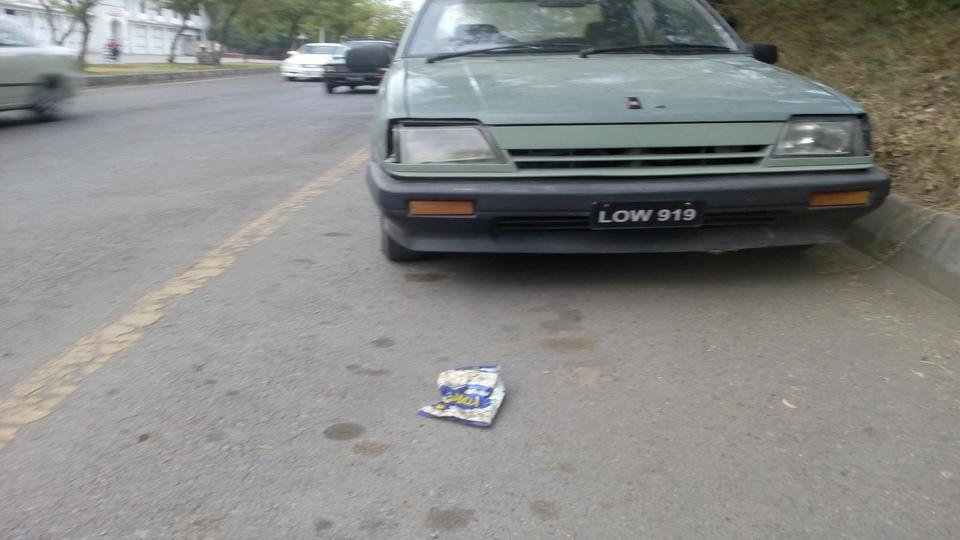NumberPlate: (589, 199, 707, 236)
